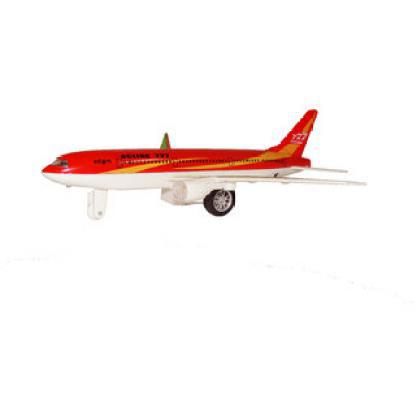CIV_Plane: (34, 105, 372, 217)
